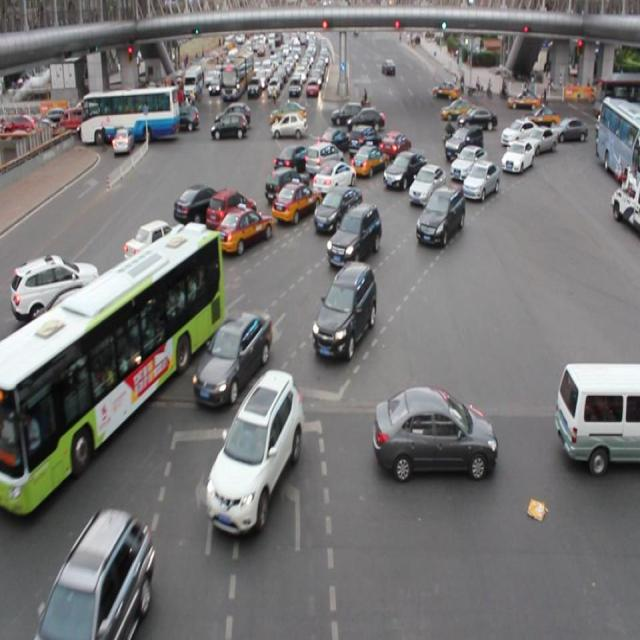car: (205, 369, 302, 536), (40, 508, 153, 640), (373, 383, 495, 475), (195, 309, 272, 406), (36, 284, 126, 361), (10, 251, 101, 320), (313, 263, 377, 357), (131, 237, 215, 300), (326, 202, 380, 266), (415, 186, 463, 247), (212, 208, 273, 254), (124, 218, 187, 262), (205, 188, 257, 234), (314, 186, 362, 231), (172, 182, 225, 222), (270, 183, 320, 225), (382, 149, 427, 191), (264, 168, 309, 209), (408, 160, 444, 207), (312, 161, 356, 197), (348, 140, 388, 178), (462, 158, 497, 201), (449, 143, 488, 181), (443, 124, 484, 159), (274, 146, 316, 178), (499, 138, 534, 176), (346, 122, 383, 157), (499, 118, 543, 145), (378, 130, 411, 164), (316, 127, 350, 154), (522, 126, 556, 153)
truck: (556, 360, 640, 470), (304, 143, 346, 179)
van: (0, 223, 218, 514)
